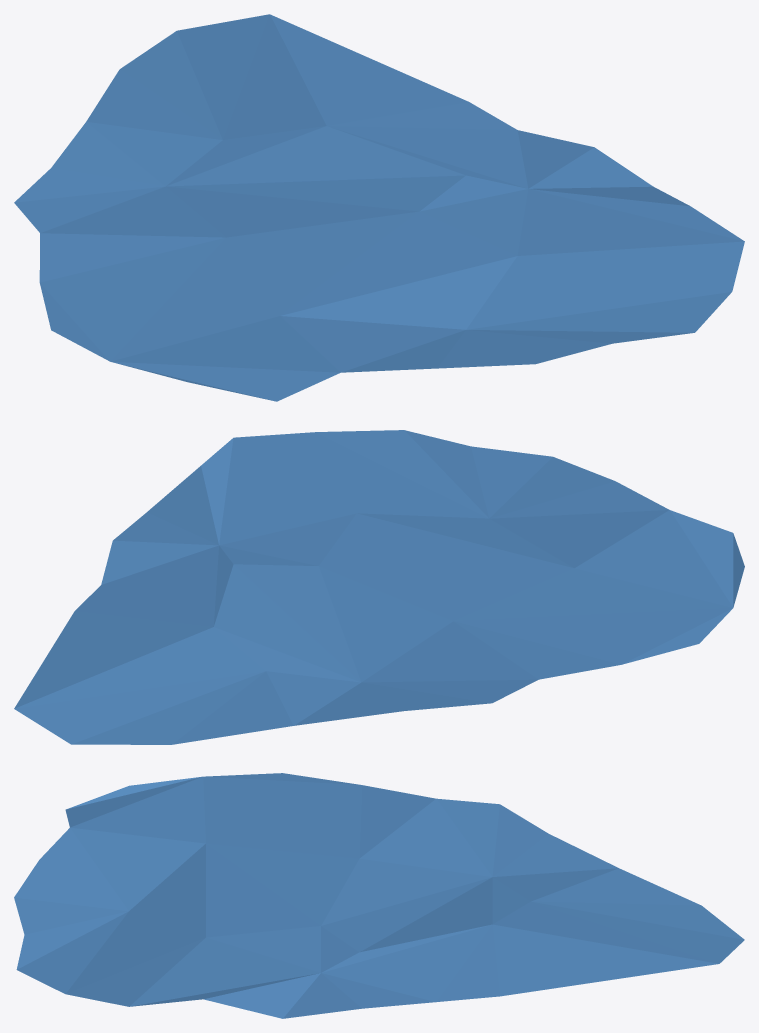
The model's file is LowPolyPuddle.fbx.
3 renders of one model, top to bottom at view 1: azimuth 30°, elevation 25°; view 2: azimuth 150°, elevation 25°; view 3: azimuth 270°, elevation 25°, orthographic. The views are drawn at different scales.
Parts seen in each view (by area): view 1: LowPolyPuddle1; view 2: LowPolyPuddle1; view 3: LowPolyPuddle1.
Part boxes in pixels (bbox=[...]): LowPolyPuddle1: bbox=[14, 14, 744, 401]; LowPolyPuddle1: bbox=[14, 430, 744, 744]; LowPolyPuddle1: bbox=[14, 773, 744, 1018].
Size of the model in its own units: 475 by 18.78 by 604.
